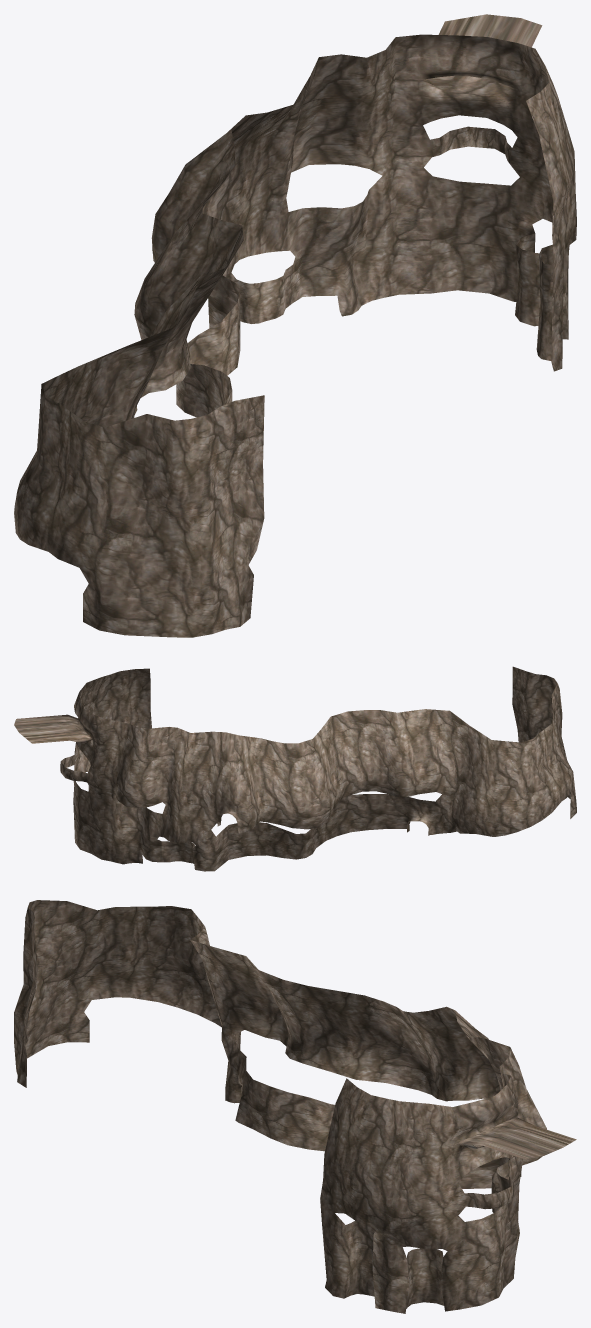
File: EKH_GROTTO_PS_GR_OBJECT34.fbx
3 views of the same model, one above another, from view 1: azimuth 30°, elevation 25°; view 2: azimuth 150°, elevation 25°; view 3: azimuth 270°, elevation 25° (orthographic). The views are drawn at different scales.
Visible parts, largest first — view 1: EKH_GROTTO_PS_GR_OBJECT34; view 2: EKH_GROTTO_PS_GR_OBJECT34; view 3: EKH_GROTTO_PS_GR_OBJECT34.
Boxes of the visible parts, <box> form: EKH_GROTTO_PS_GR_OBJECT34: <box>14,14,576,637</box>; EKH_GROTTO_PS_GR_OBJECT34: <box>14,666,576,871</box>; EKH_GROTTO_PS_GR_OBJECT34: <box>14,900,576,1313</box>.
Bounding box in the file's own units: 403426 × 138329 × 338697.
Materials: 1 (1 with a texture image).
